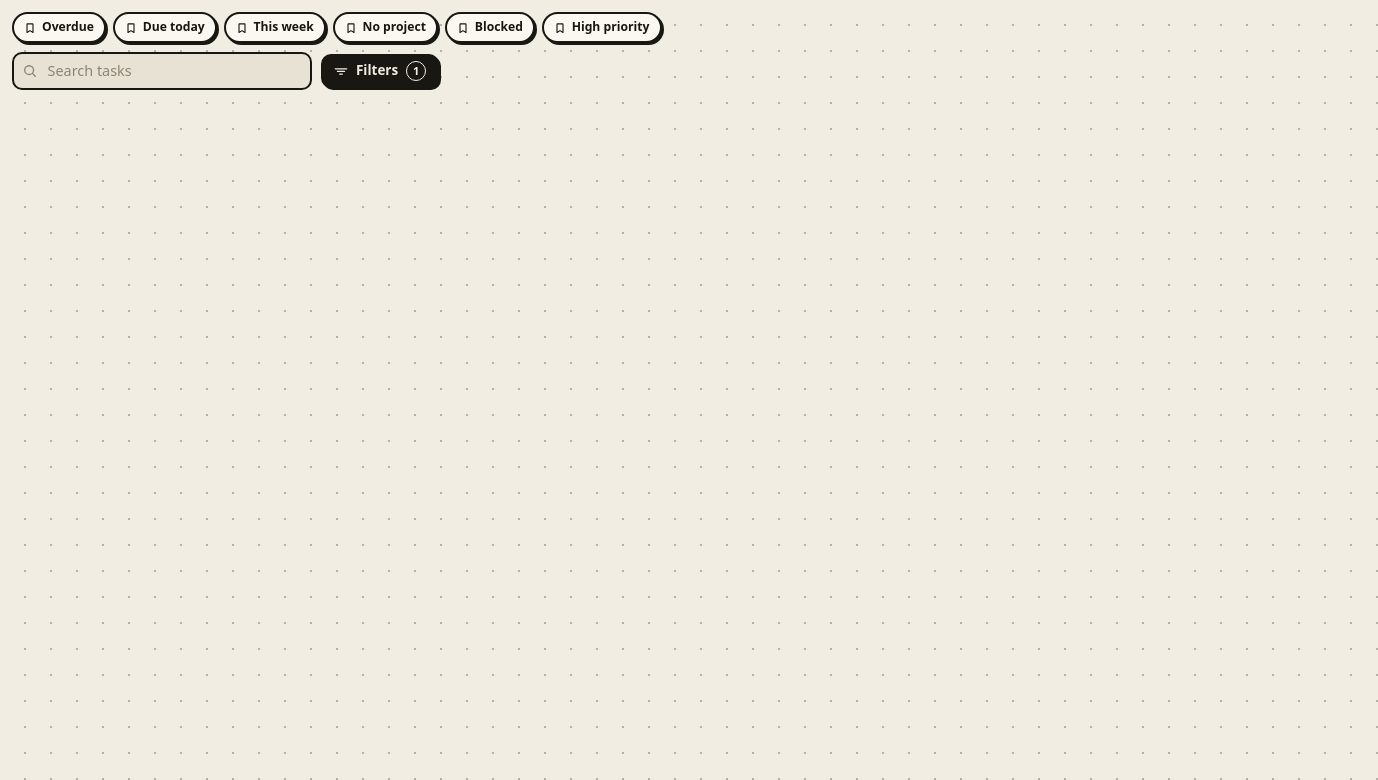
Scenario: FilterBar › collapses advanced filters behind a compact filter toggle
Expected: the button "Biology" is not shown
Click the button "Filters 1" at x=380, y=71, box [321,54,439,88]
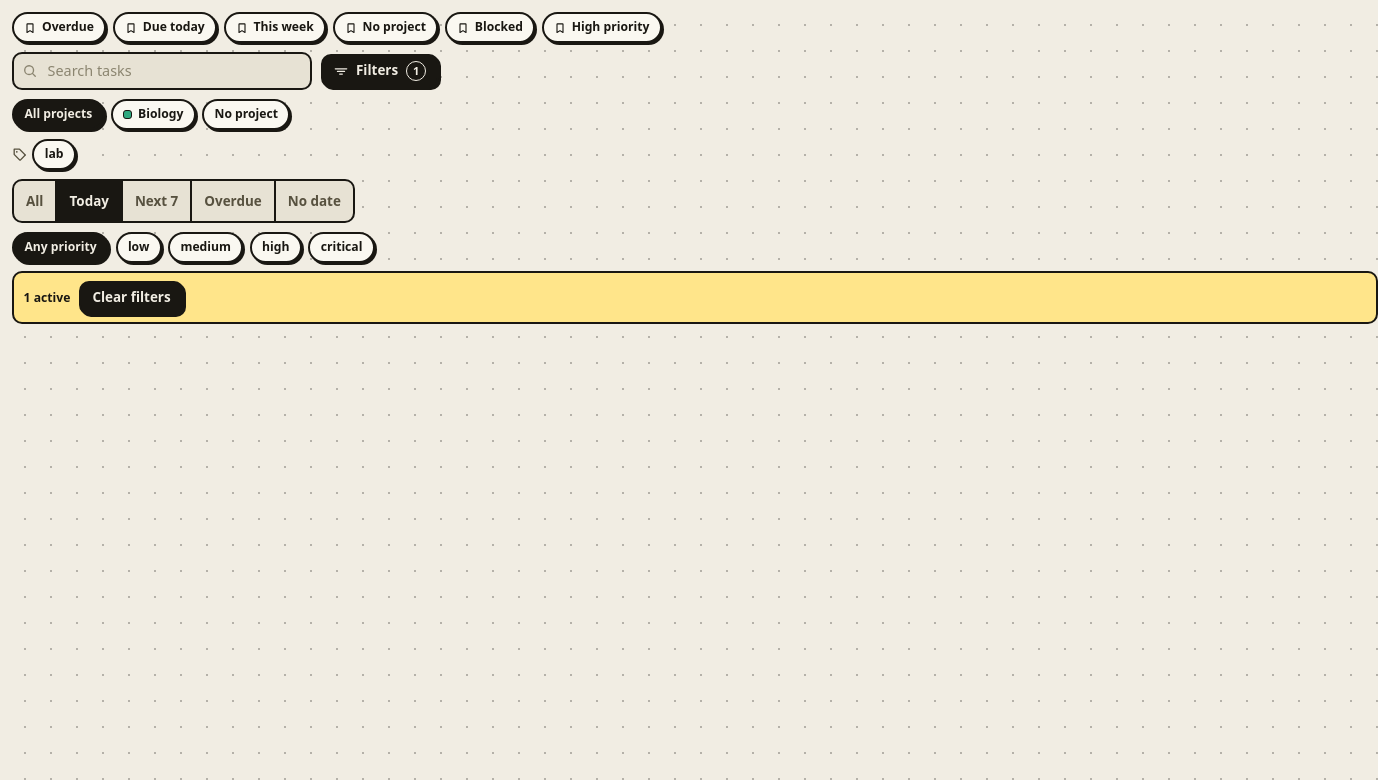
Expected: the button "Biology" is shown, [111,99,196,130]
